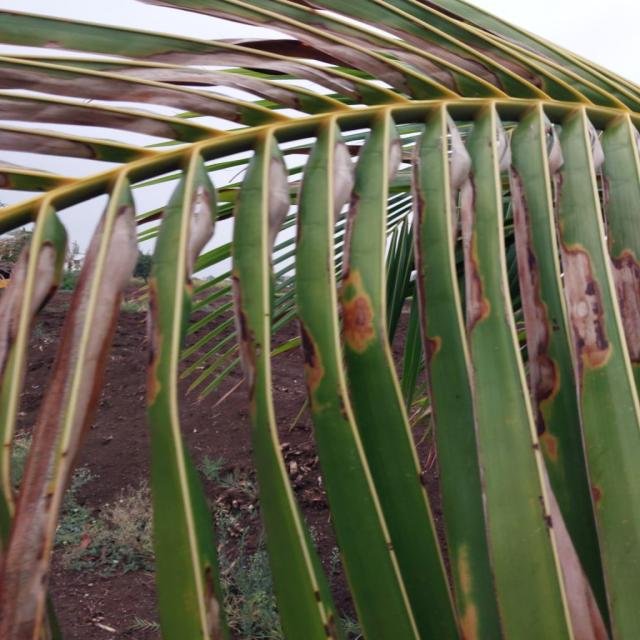gray leaf spot: (0, 47, 640, 640)
